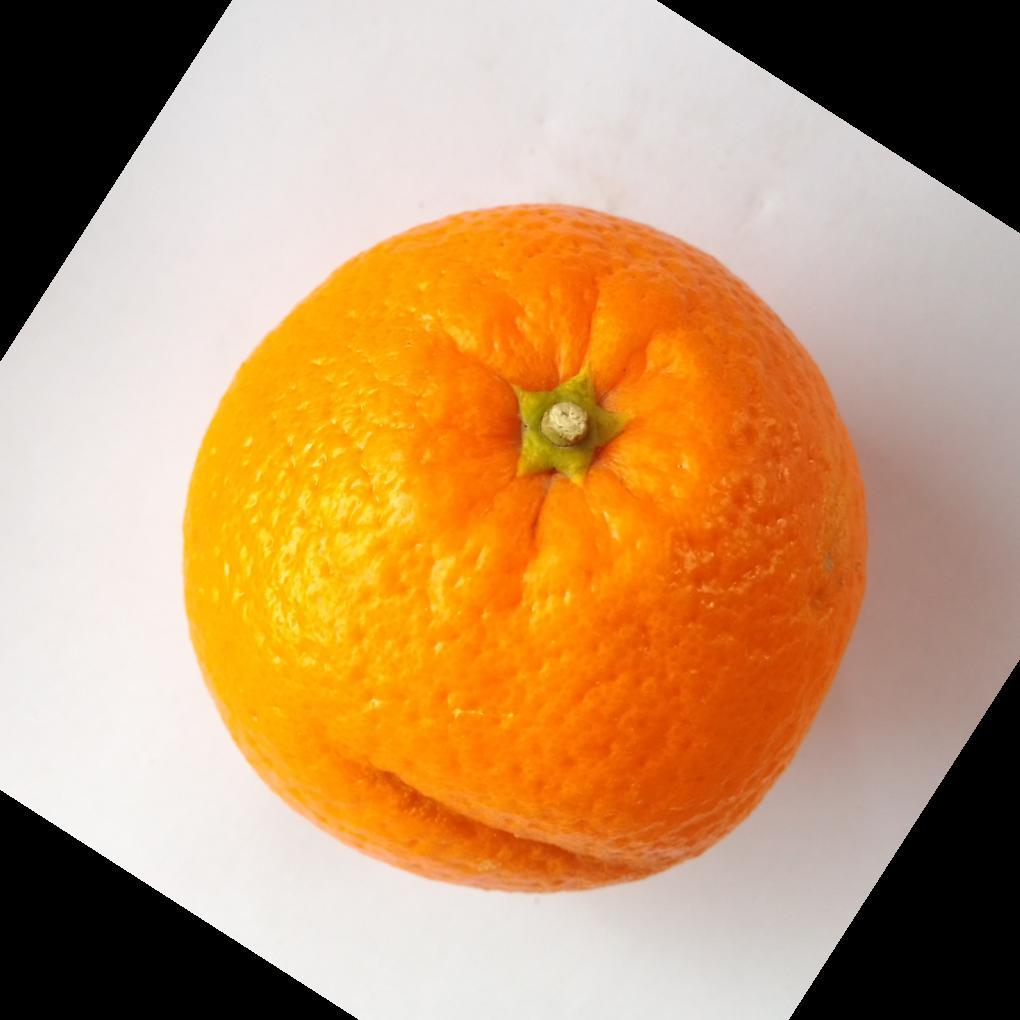FreshGuava: (179, 204, 871, 899)
